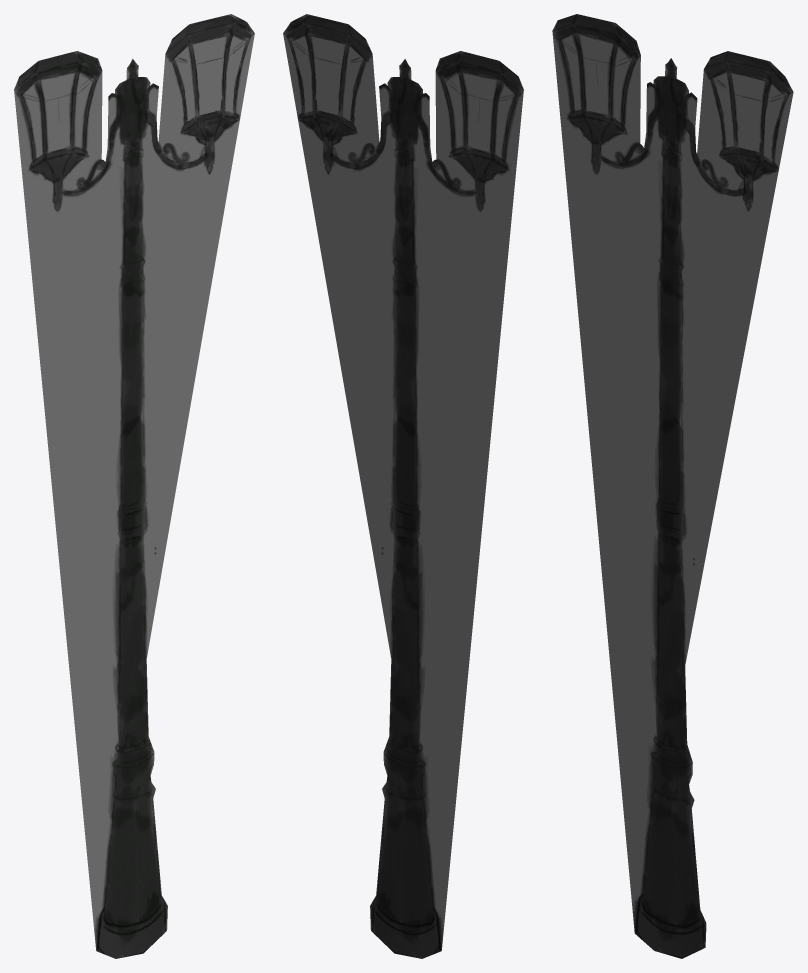
File: Depression_LampPost.fbx
The picture shows the model from 3 angles, left to right: view 1: azimuth 30°, elevation 25°; view 2: azimuth 150°, elevation 25°; view 3: azimuth 330°, elevation 25°; orthographic projection.
Visible parts, largest first — view 1: pCube1; view 2: pCube1; view 3: pCube1.
Part boxes in pixels (x1,y1,x2,y2): pCube1: (14,14,254,958); pCube1: (283,14,523,958); pCube1: (552,14,793,958).
Size of the model in its own units: 0.0197 by 0.0719 by 0.
Materials: 1 (1 with a texture image).
